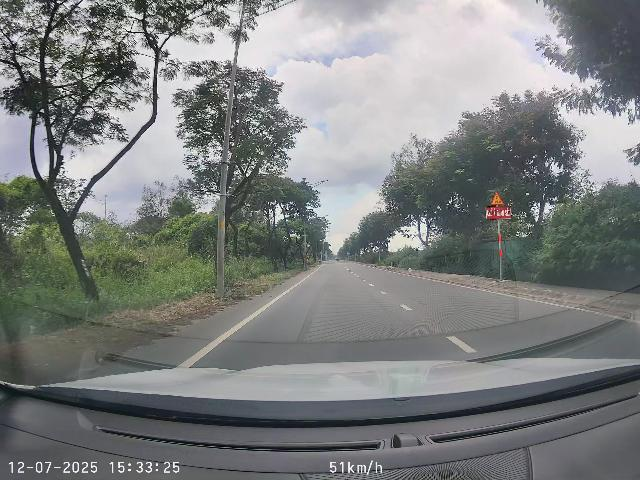245-di-cham: (491, 192, 505, 206)
